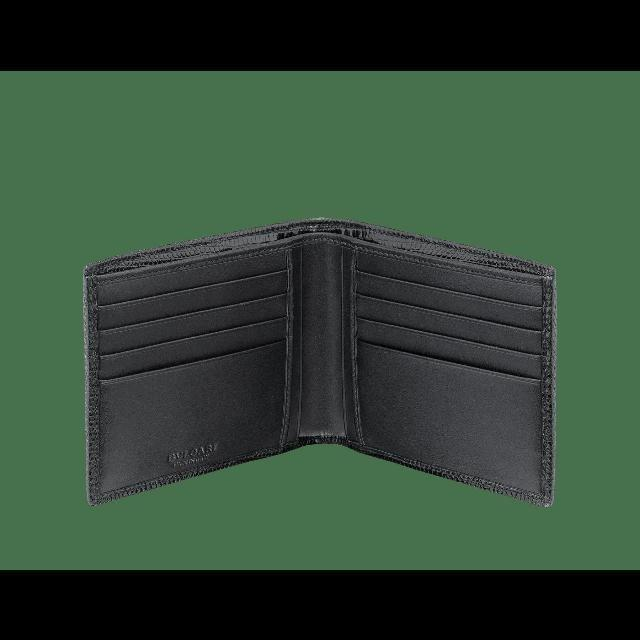Wallet: (79, 217, 557, 507)
